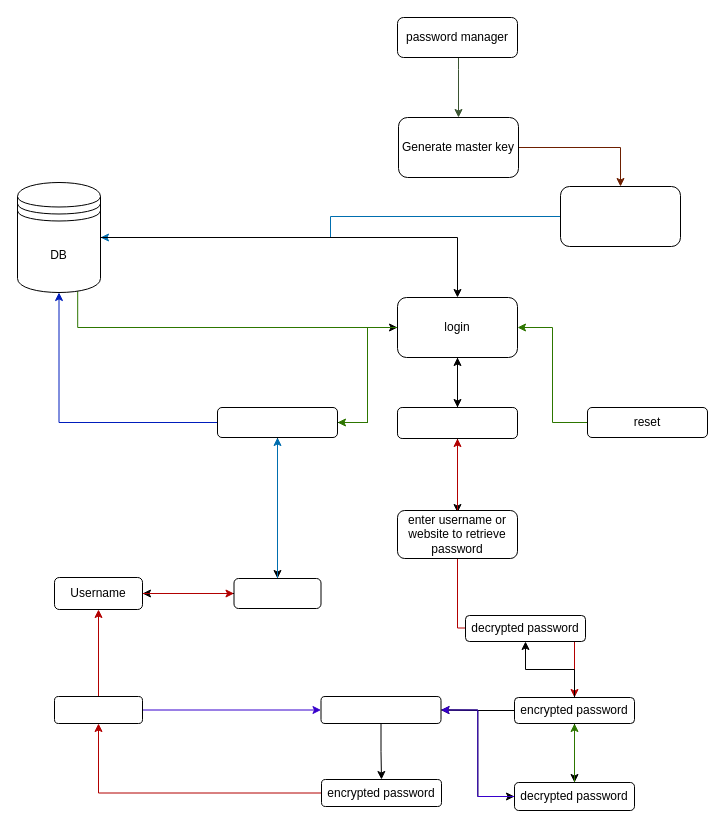
The diagram is 725 pixels wide and 828 high, and some of its shapes have lost their labels. Each missing label, with the centre of its shape:
"insert" belongs at (277,422).
"master key" belongs at (380,710).
"password" belongs at (98,710).
"retrieve" belongs at (457,422).
"store key to db" belongs at (620,216).
"website name" belongs at (277,593).
